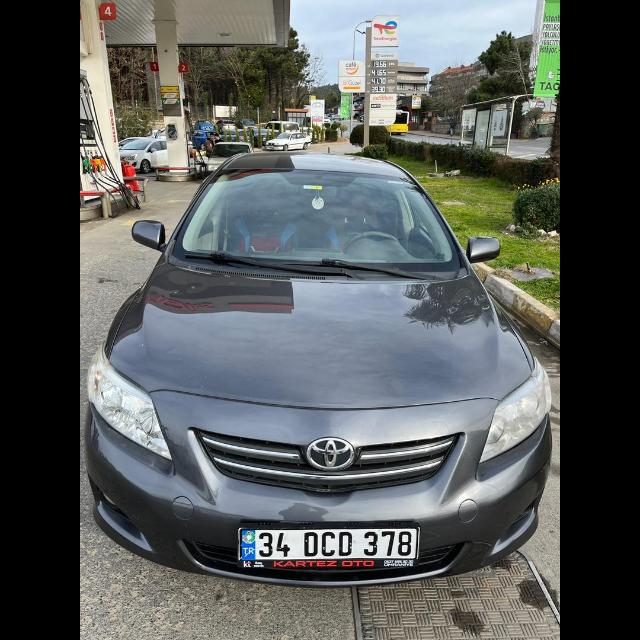Plaka: (241, 532, 417, 562)
